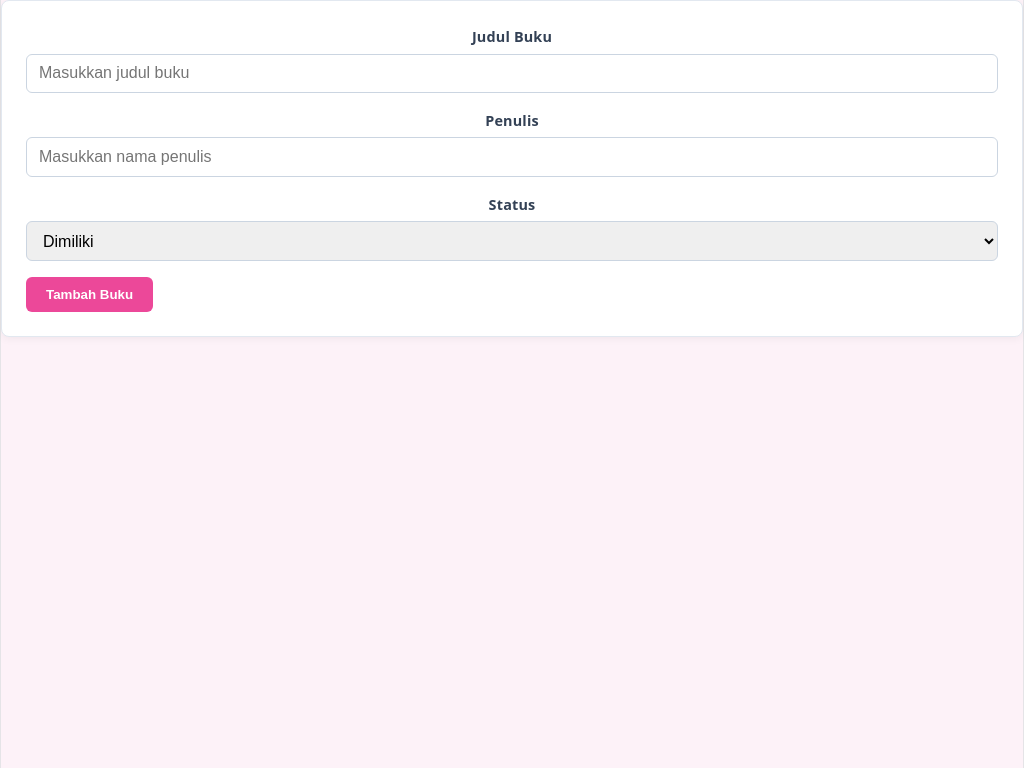
Scenario: Komponen BookForm › menampilkan pesan error jika submit dengan field kosong
Click the button "Tambah Buku" at (90, 295), box [26,278,153,312]
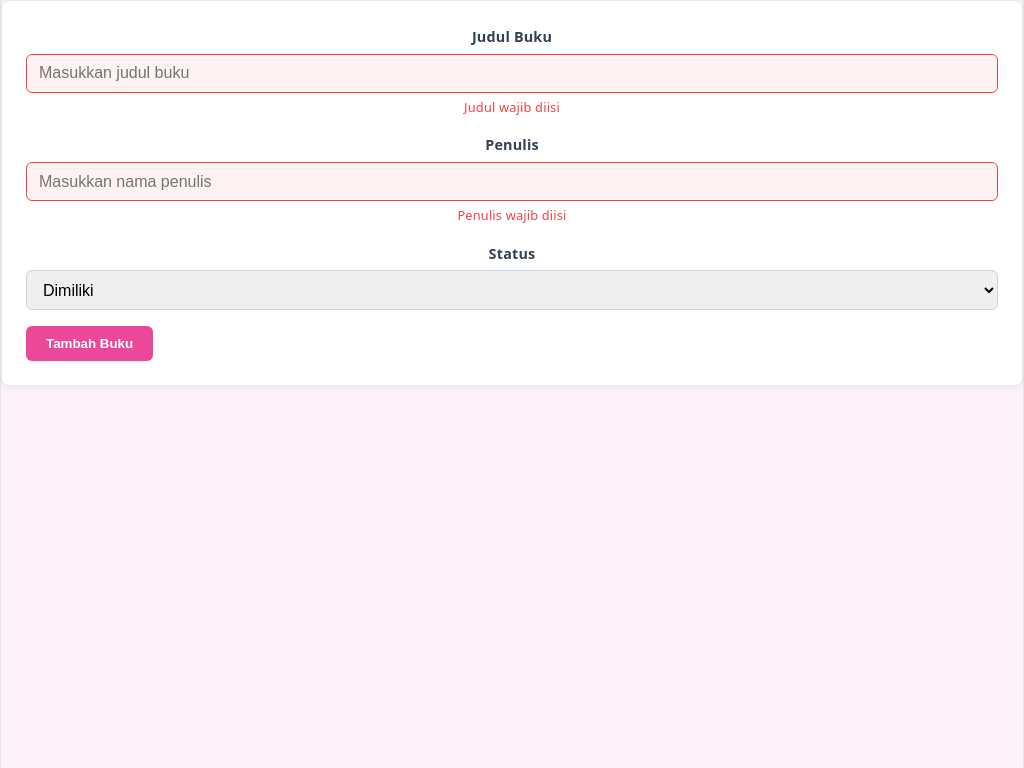
expect the text "Judul wajib diisi" is shown: met, box [464,98,560,116]
expect the text "Penulis wajib diisi" is shown: met, box [457,206,567,224]
